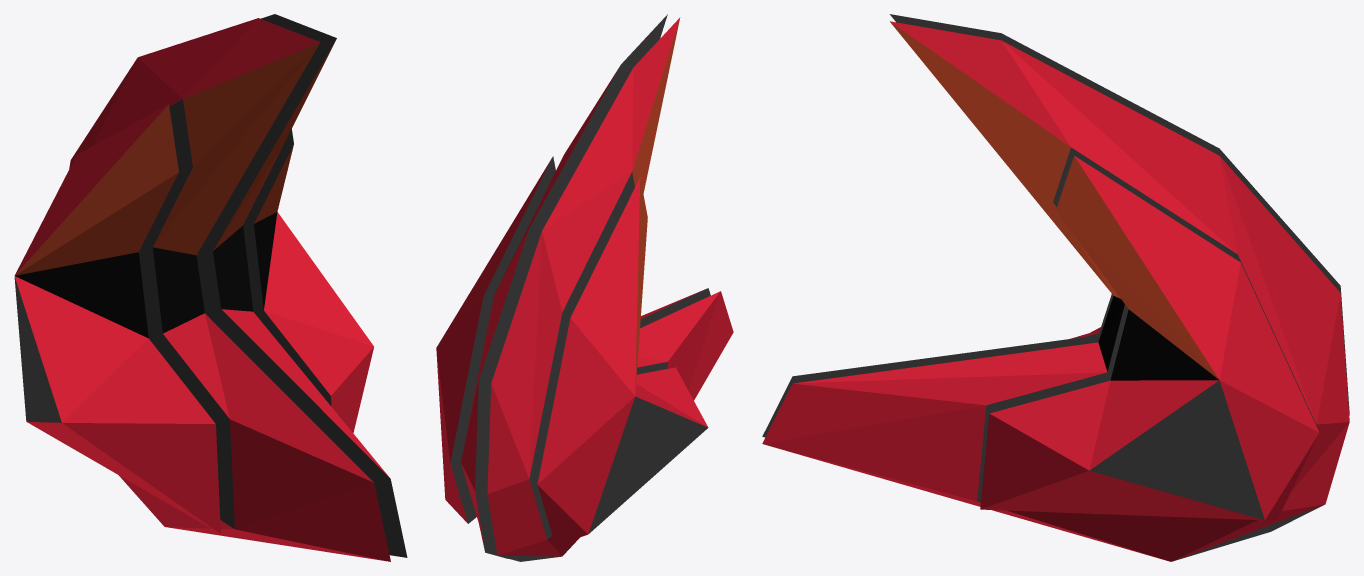
File: body.FBX
3 renders of one model, left to right at view 1: azimuth 30°, elevation 25°; view 2: azimuth 150°, elevation 25°; view 3: azimuth 270°, elevation 25°, orthographic. The views are drawn at different scales.
Parts seen in each view (by area): view 1: VIFS002, VIFS004, VIFS001, VIFS003; view 2: VIFS002, VIFS001, VIFS004; view 3: VIFS002, VIFS001, VIFS004, VIFS003.
Part boxes in pixels (<box>): VIFS002: <box>14,18,390,561</box>; VIFS004: <box>15,39,336,275</box>; VIFS001: <box>14,14,407,557</box>; VIFS003: <box>15,212,277,338</box>; VIFS002: <box>436,18,733,556</box>; VIFS001: <box>450,14,710,561</box>; VIFS004: <box>632,19,679,392</box>; VIFS002: <box>762,21,1349,561</box>; VIFS001: <box>762,14,1349,561</box>; VIFS004: <box>890,22,1218,379</box>; VIFS003: <box>1098,296,1218,380</box>.
Bounding box in the file's own units: 0.76 × 1.39 × 1.37.
